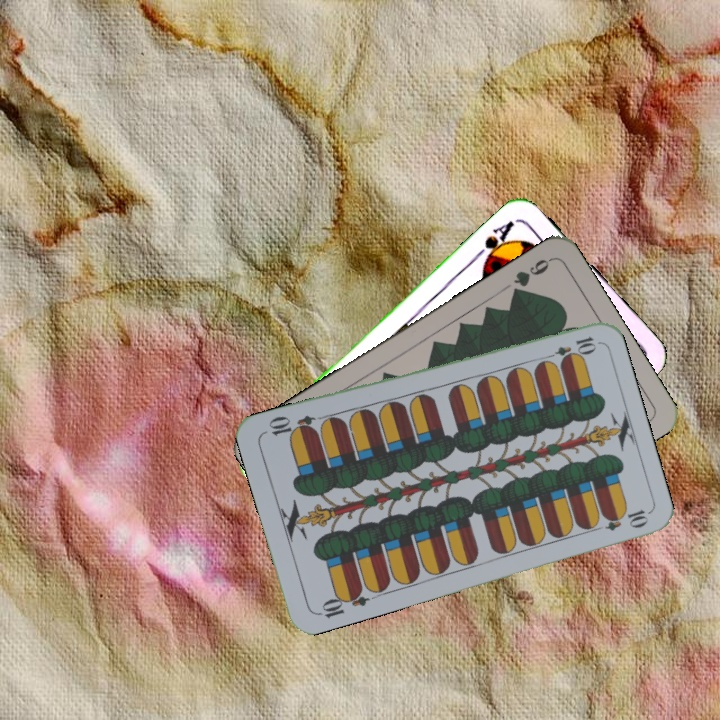E10: (313, 584, 371, 621), (540, 332, 599, 364)
G9: (507, 254, 554, 300)
SA: (470, 216, 517, 268)
